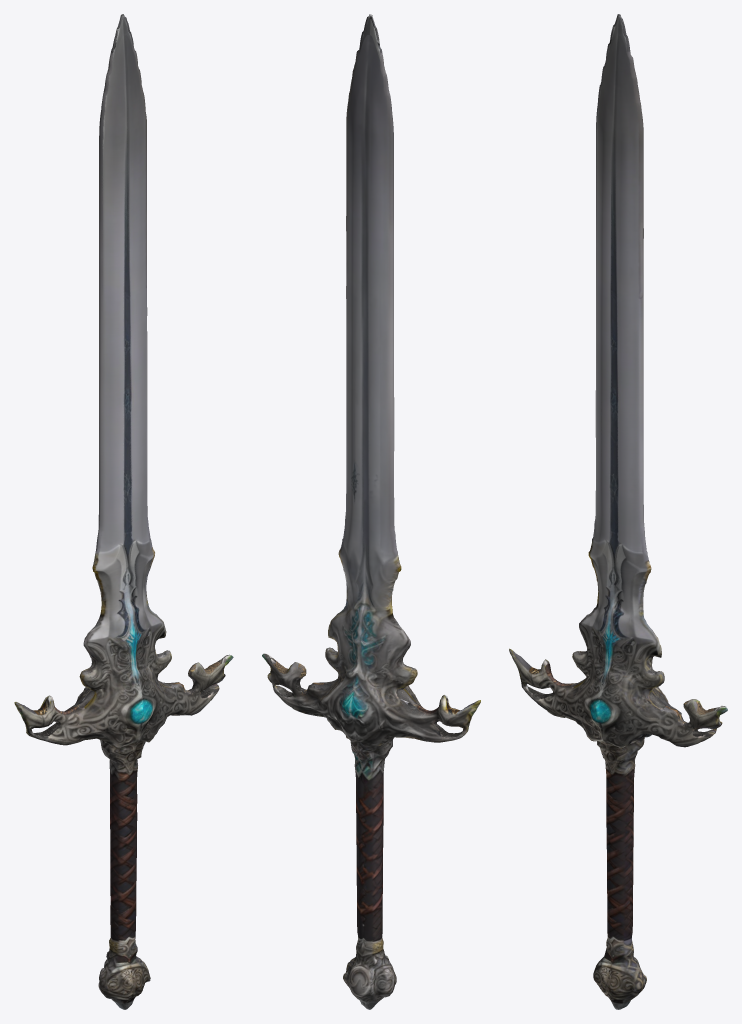
The model's file is fantastic_sword_0724202239_texture.fbx.
3 views of the same model, side by side, from view 1: azimuth 30°, elevation 25°; view 2: azimuth 150°, elevation 25°; view 3: azimuth 330°, elevation 25° (orthographic).
Parts seen in each view (by area): view 1: input; view 2: input; view 3: input.
Part boxes in pixels (left/top/right/bottom): input: left=14, top=14, right=233, bottom=1009; input: left=262, top=14, right=480, bottom=1009; input: left=509, top=14, right=727, bottom=1009.
Size of the model in its own units: 45.6 by 198 by 15.09.
1 material, 1 textured.
